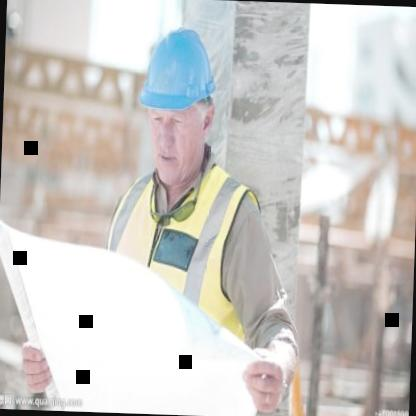helmet: (126, 9, 230, 203)
